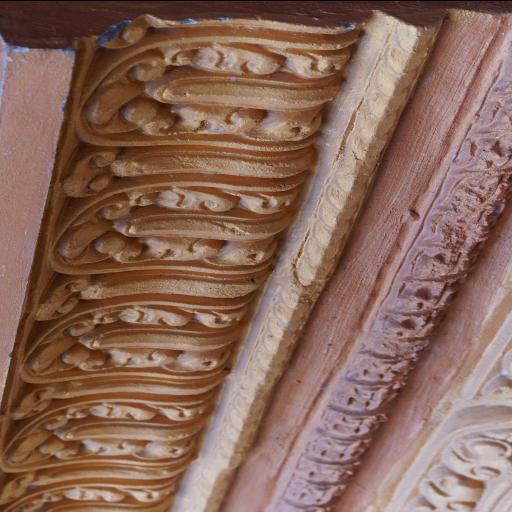la: (62, 22, 354, 186), (29, 174, 312, 322), (6, 297, 256, 418), (0, 393, 218, 502), (0, 476, 195, 512)
